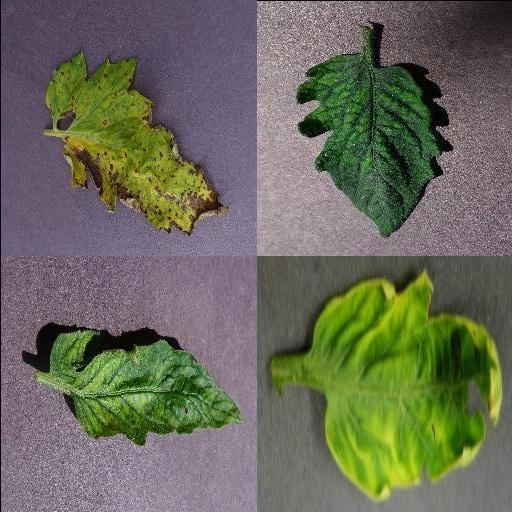Mosaic Virus: (293, 51, 443, 241), (45, 326, 245, 447)
Septoria: (41, 47, 229, 236)
Yellow Leaf Curl Virus: (309, 267, 501, 501)
